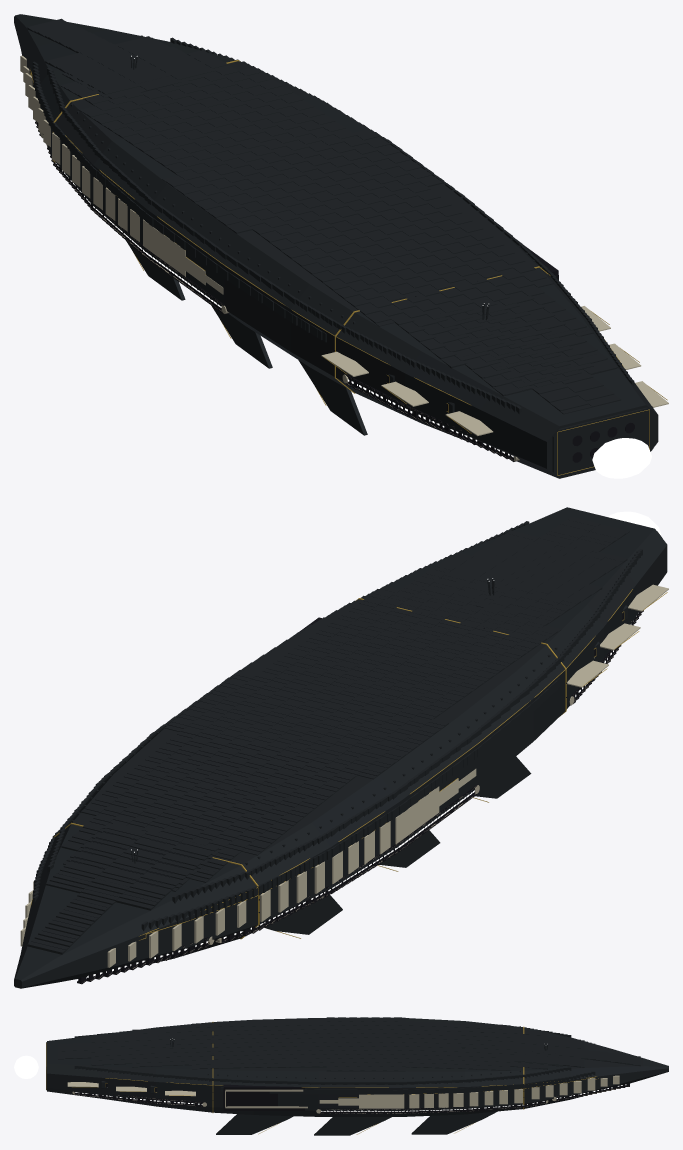
The picture shows the model from 3 angles, top to bottom: view 1: azimuth 30°, elevation 25°; view 2: azimuth 150°, elevation 25°; view 3: azimuth 270°, elevation 25°; orthographic projection. The views are drawn at different scales.
Parts seen in each view (by area): view 1: RIMWARD_HULL, RIMWARD_ENGINE_GLOW; view 2: RIMWARD_HULL; view 3: RIMWARD_HULL, RIMWARD_ENGINE_GLOW, RIMWARD_EMISSIVE.
Part boxes in pixels (bbox=[...]): RIMWARD_HULL: bbox=[14, 14, 668, 478]; RIMWARD_ENGINE_GLOW: bbox=[592, 438, 651, 478]; RIMWARD_HULL: bbox=[14, 507, 668, 988]; RIMWARD_HULL: bbox=[46, 1017, 668, 1135]; RIMWARD_ENGINE_GLOW: bbox=[14, 1055, 38, 1078]; RIMWARD_EMISSIVE: bbox=[75, 1038, 626, 1111].
Size of the model in its own units: 18.97 by 10.24 by 80.58.
